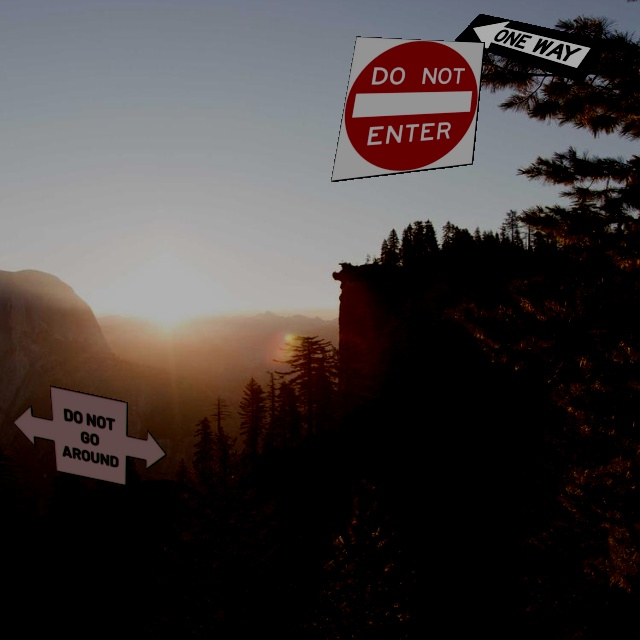DO_NOT_ENTER: (330, 36, 485, 182)
DO_NOT_GO_AROUND: (12, 385, 167, 486)
ONE_WAY_ left: (454, 13, 609, 83)
